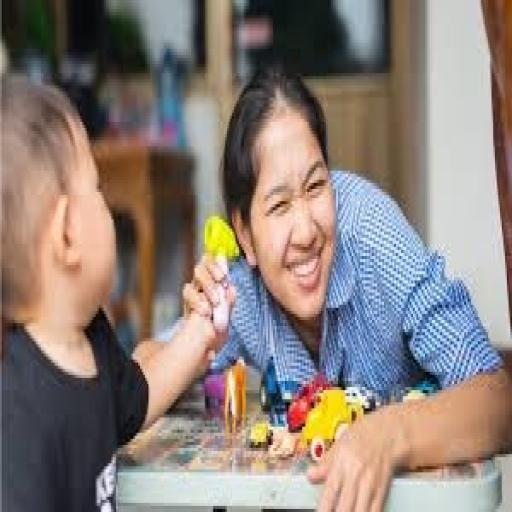baby: (0, 77, 221, 511)
